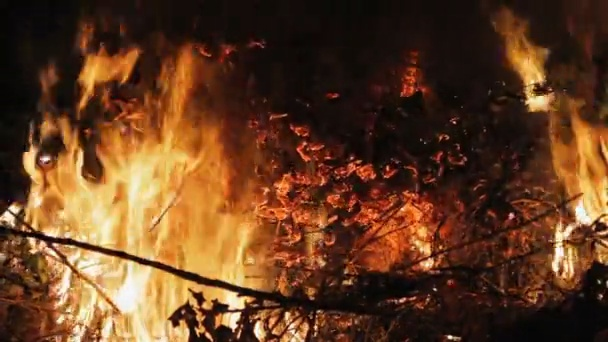fire: (22, 45, 253, 342), (554, 106, 608, 226), (506, 21, 549, 93)
